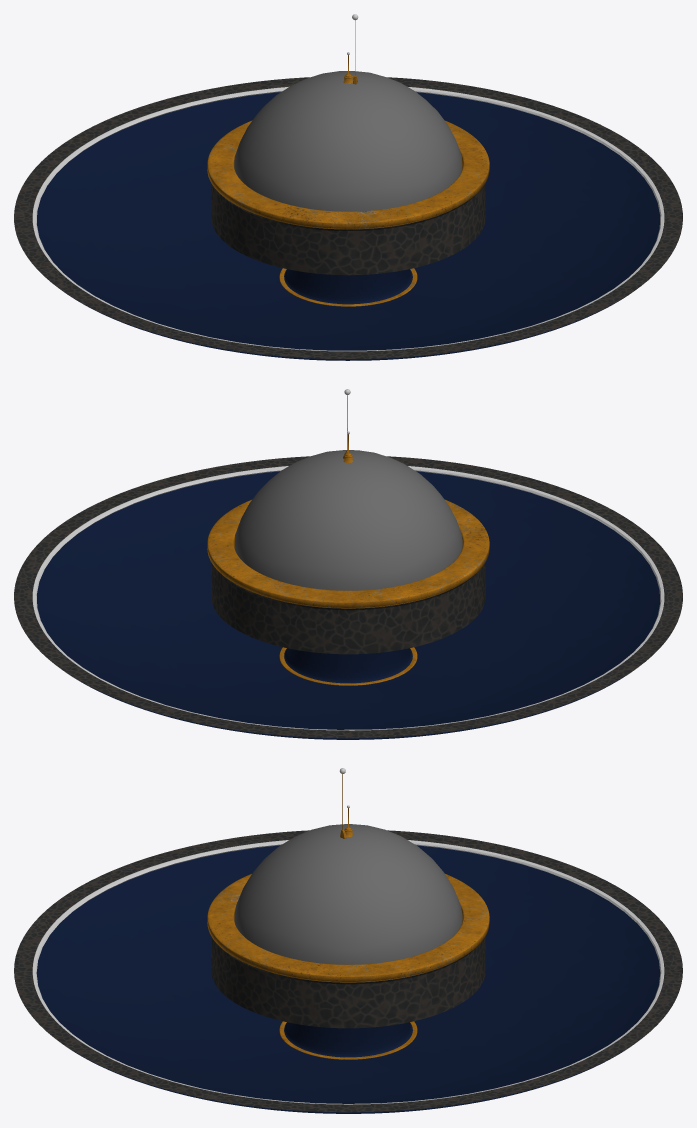
The model's file is correctUFO.obj.
The picture shows the model from 3 angles, top to bottom: view 1: azimuth 30°, elevation 25°; view 2: azimuth 150°, elevation 25°; view 3: azimuth 270°, elevation 25°; orthographic projection.
Visible parts, largest first — view 1: Material_013-material, Material_012-material, Material_007-material, Material_001-material, Material_014-material; view 2: Material_013-material, Material_012-material, Material_007-material, Material_001-material, Material_014-material; view 3: Material_013-material, Material_012-material, Material_007-material, Material_001-material, Material_014-material.
Part boxes in pixels (x1,y1,x2,y2): Material_013-material: [37, 92, 660, 360]; Material_012-material: [14, 77, 682, 358]; Material_007-material: [234, 71, 462, 211]; Material_001-material: [207, 20, 489, 306]; Material_014-material: [32, 86, 664, 351]; Material_013-material: [37, 471, 659, 739]; Material_012-material: [14, 456, 682, 738]; Material_007-material: [234, 450, 462, 590]; Material_001-material: [207, 395, 489, 685]; Material_014-material: [32, 466, 664, 730]; Material_013-material: [36, 845, 660, 1113]; Material_012-material: [14, 830, 682, 1112]; Material_007-material: [234, 824, 462, 964]; Material_001-material: [207, 774, 489, 1059]; Material_014-material: [32, 840, 664, 1104].
Bounding box in the file's own units: 2.57 × 1.15 × 2.57.
